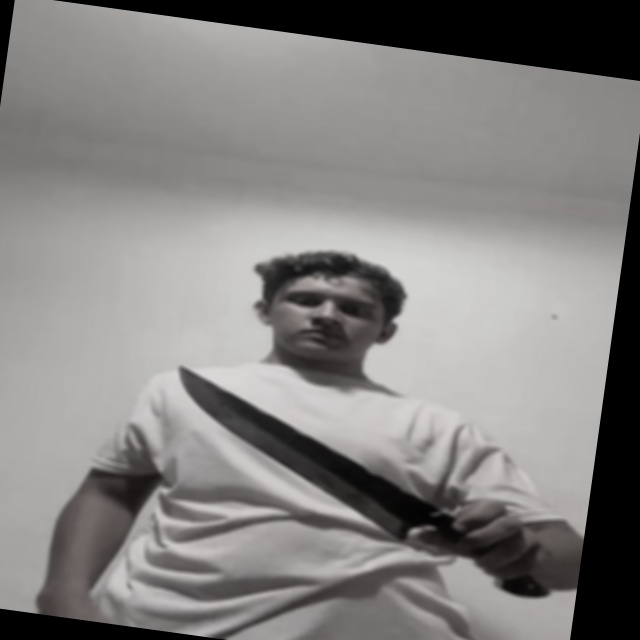Sharp-Object: (161, 366, 462, 547)
